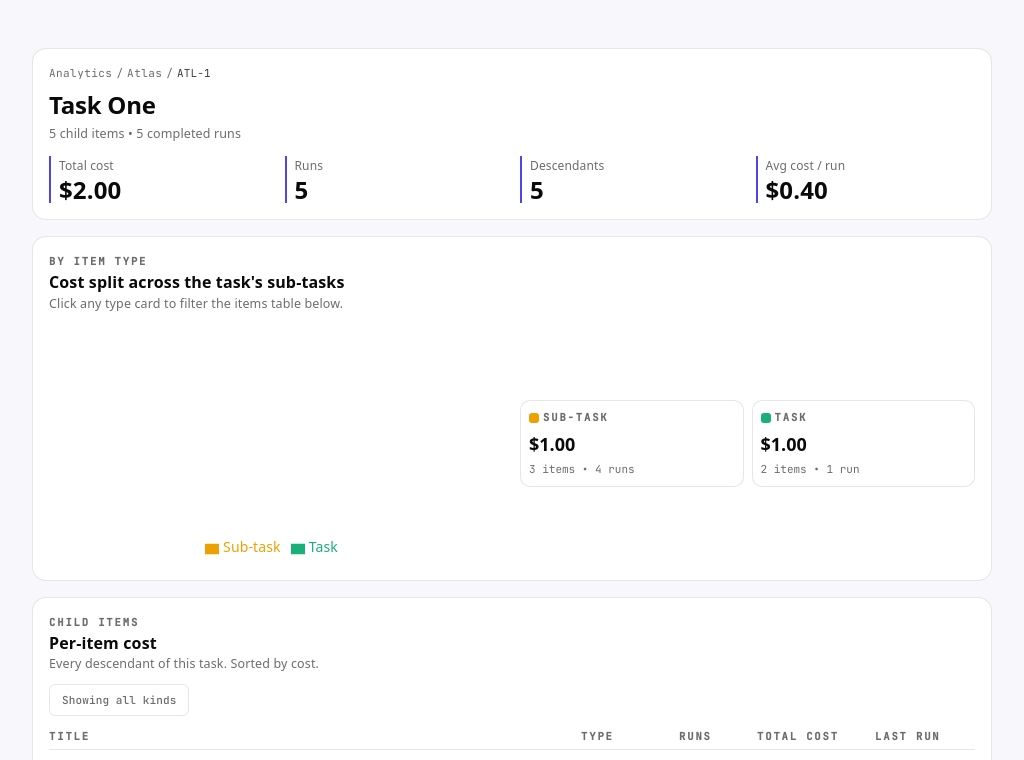
it: AnalyticsTask page › toggles off the active kind filter when the same kind card is clicked again
The width and height of the screenshot is (1024, 760).
First click → sets filter
Click the button "Sub-task $1.00 3 items • 4 runs": (632, 444) [520,400,744,487]
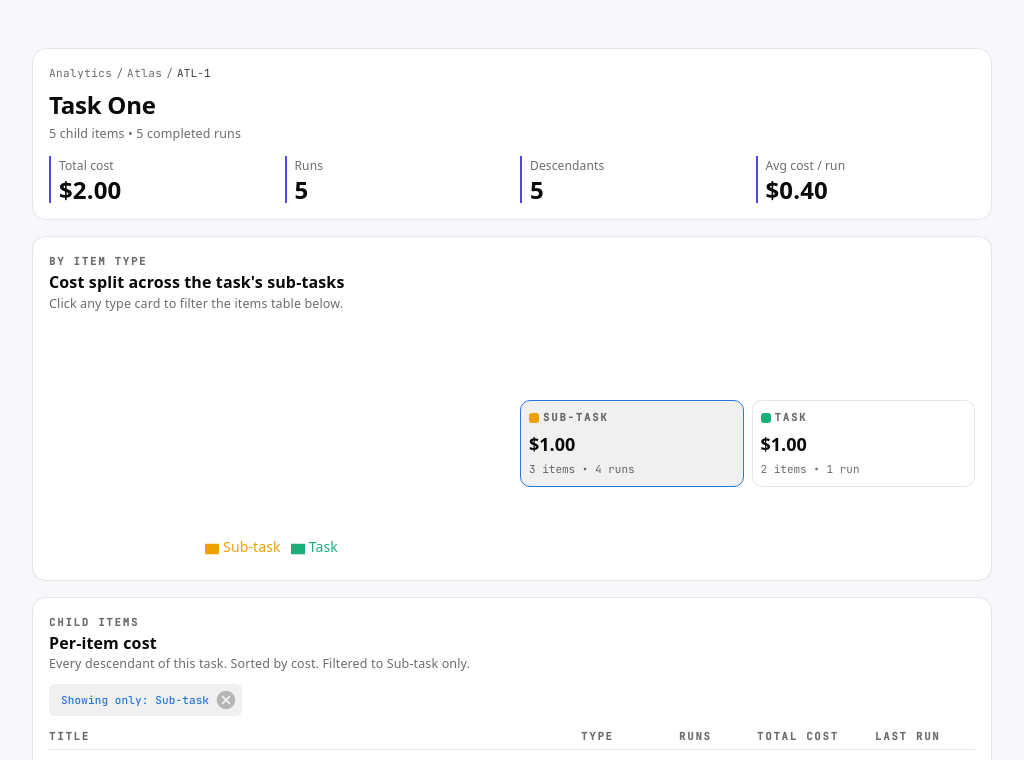
Expected: the text "Showing only: Sub-task" is shown, [49,692,221,708]
Second click on same card → clears filter (isActive → null)
Click the button "Sub-task $1.00 3 items • 4 runs": (632, 444) [520,400,744,487]
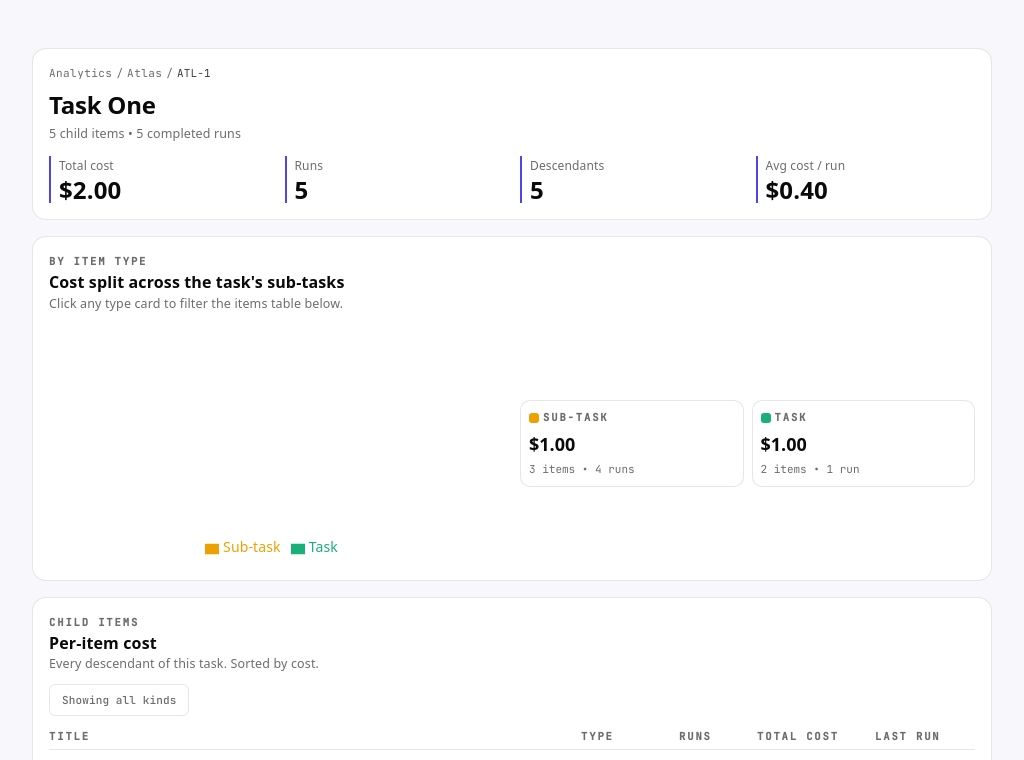
Expected: the text "Showing all kinds" is shown, [62,693,176,707]
